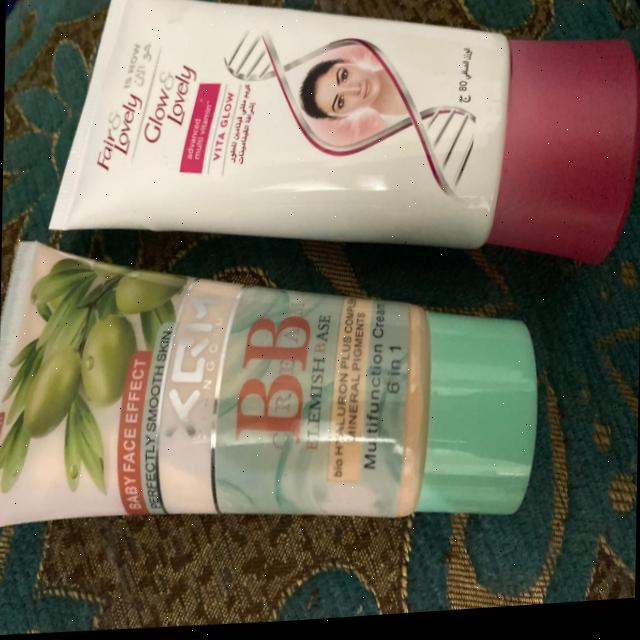bb cream: (0, 202, 553, 583)
lotion: (22, 0, 640, 274)
